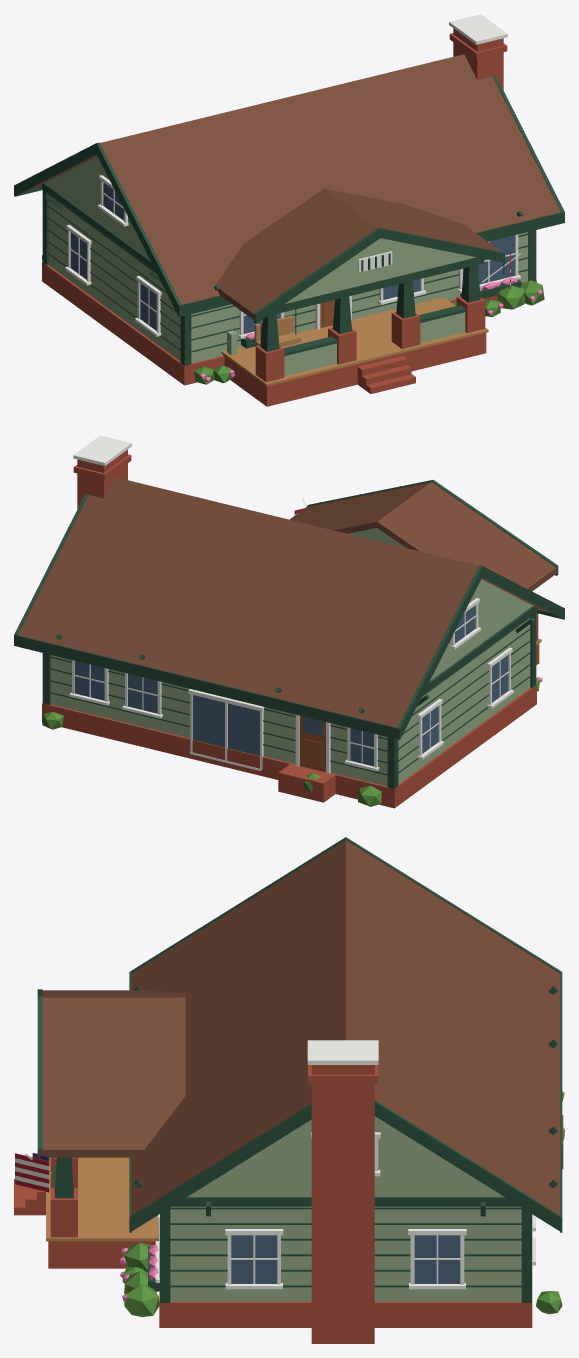
File: craftsman-house.glb
The picture shows the model from 3 angles, top to bottom: view 1: azimuth 30°, elevation 25°; view 2: azimuth 150°, elevation 25°; view 3: azimuth 270°, elevation 25°; orthographic projection. The views are drawn at different scales.
Parts seen in each view (by area): view 1: CraftsmanHouse_Roof, CraftsmanHouse_Walls, CraftsmanHouse_Trim, CraftsmanHouse_Brick, CraftsmanHouse_Deck, CraftsmanHouse_Frames, CraftsmanHouse_Glass, CraftsmanHouse_Leaves, CraftsmanHouse_Flowers; view 2: CraftsmanHouse_Roof, CraftsmanHouse_Walls, CraftsmanHouse_Trim, CraftsmanHouse_Brick, CraftsmanHouse_Glass, CraftsmanHouse_Frames, CraftsmanHouse_Door, CraftsmanHouse_Leaves; view 3: CraftsmanHouse_Roof, CraftsmanHouse_Brick, CraftsmanHouse_Walls, CraftsmanHouse_Trim, CraftsmanHouse_Frames, CraftsmanHouse_Deck, CraftsmanHouse_Glass, CraftsmanHouse_Leaves, CraftsmanHouse_FlagRed.
Part boxes in pixels (bbox=[...]): CraftsmanHouse_Roof: bbox=[27, 54, 560, 320]; CraftsmanHouse_Walls: bbox=[46, 156, 528, 375]; CraftsmanHouse_Trim: bbox=[14, 75, 564, 366]; CraftsmanHouse_Brick: bbox=[42, 28, 536, 406]; CraftsmanHouse_Deck: bbox=[221, 297, 488, 386]; CraftsmanHouse_Frames: bbox=[65, 14, 520, 338]; CraftsmanHouse_Glass: bbox=[70, 182, 515, 333]; CraftsmanHouse_Leaves: bbox=[42, 255, 544, 384]; CraftsmanHouse_Flowers: bbox=[199, 278, 542, 382]; CraftsmanHouse_Roof: bbox=[18, 477, 557, 727]; CraftsmanHouse_Walls: bbox=[50, 528, 532, 786]; CraftsmanHouse_Trim: bbox=[14, 479, 564, 788]; CraftsmanHouse_Brick: bbox=[42, 449, 539, 808]; CraftsmanHouse_Glass: bbox=[75, 605, 508, 766]; CraftsmanHouse_Frames: bbox=[69, 435, 513, 773]; CraftsmanHouse_Door: bbox=[299, 715, 325, 772]; CraftsmanHouse_Leaves: bbox=[42, 678, 539, 806]; CraftsmanHouse_Roof: bbox=[39, 840, 560, 1214]; CraftsmanHouse_Brick: bbox=[14, 1065, 563, 1343]; CraftsmanHouse_Walls: bbox=[170, 1116, 521, 1301]; CraftsmanHouse_Trim: bbox=[37, 837, 562, 1302]; CraftsmanHouse_Frames: bbox=[15, 1040, 535, 1289]; CraftsmanHouse_Deck: bbox=[46, 1157, 158, 1241]; CraftsmanHouse_Glass: bbox=[231, 1235, 460, 1283]; CraftsmanHouse_Leaves: bbox=[122, 1091, 564, 1317]; CraftsmanHouse_FlagRed: bbox=[15, 1153, 49, 1192].
Size of the model in its own units: 52.47 by 27.47 by 48.14.
